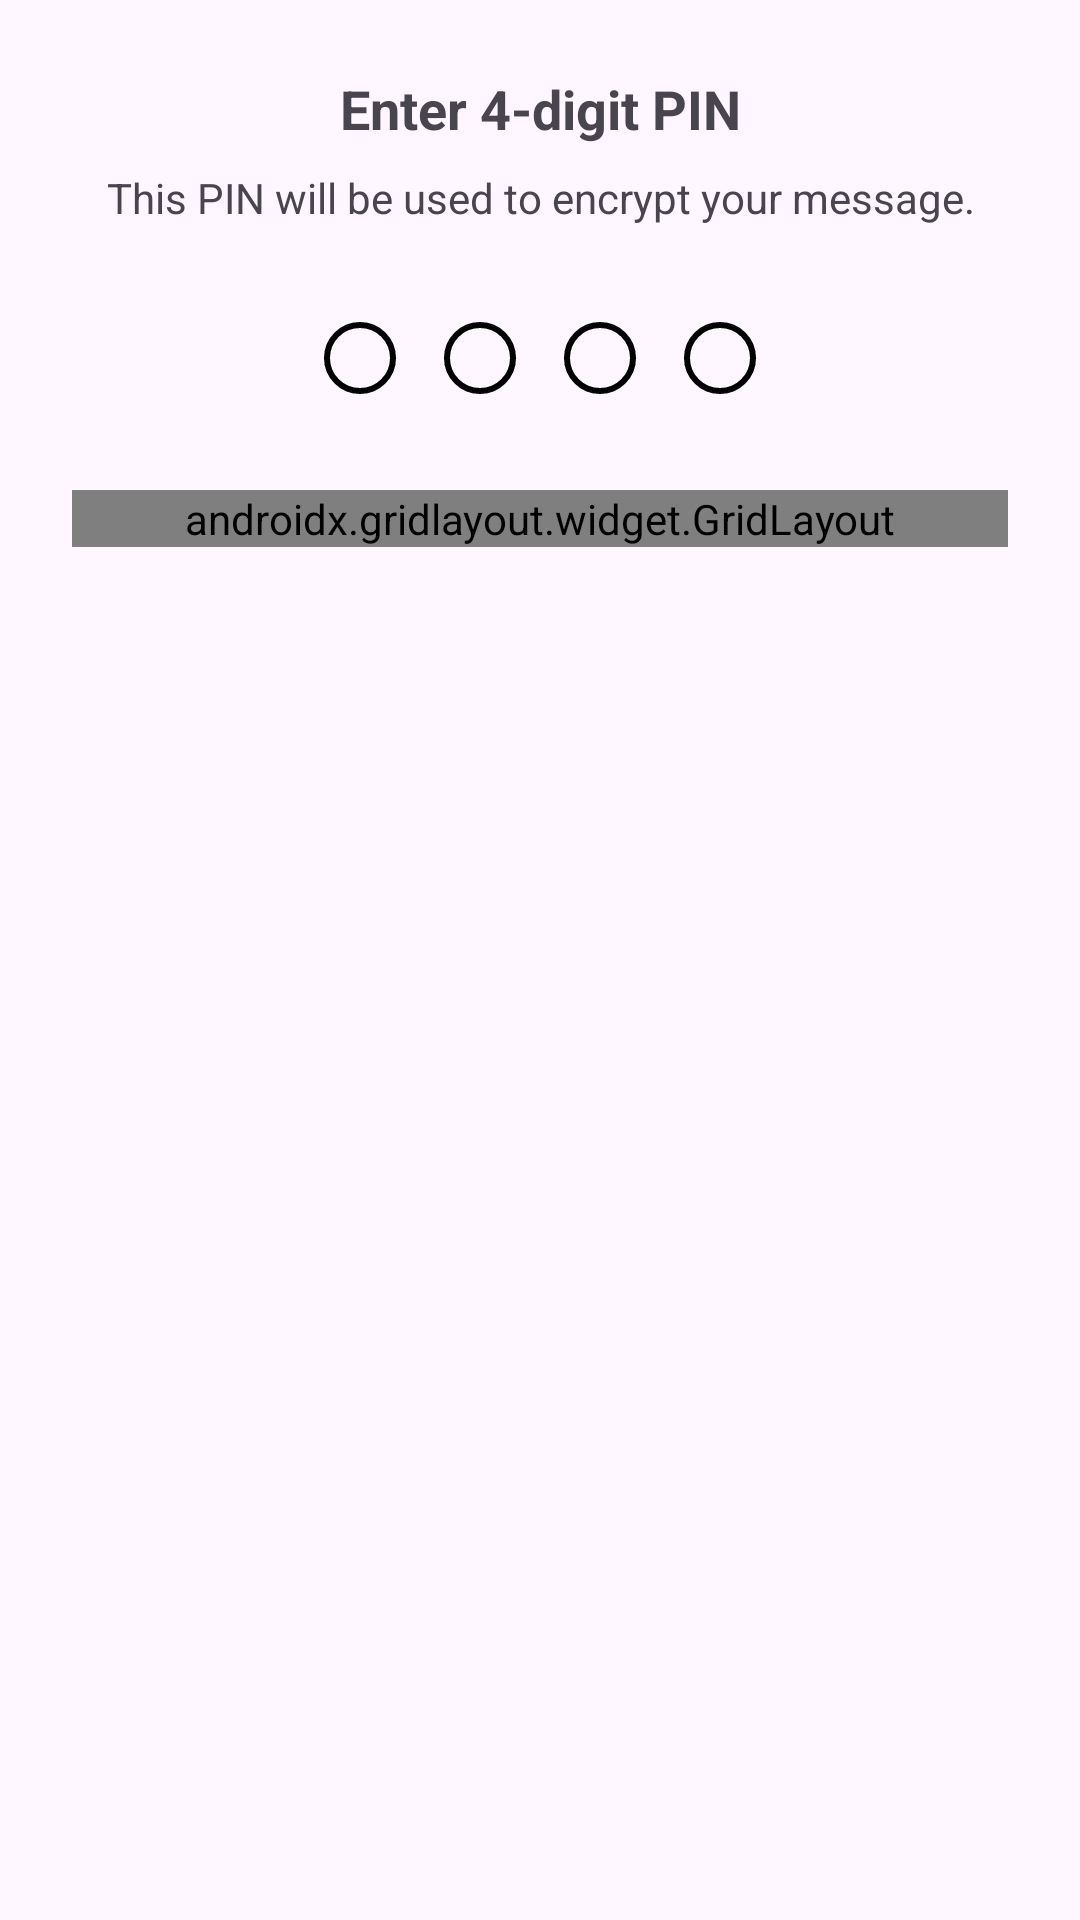

Locate icon controls on the screen. Image size 1080px x 1920px, boxes as (x1, y1, x2, y2).
pin dot empty: (324, 322, 396, 394), (444, 322, 516, 394), (564, 322, 636, 394), (684, 322, 756, 394)
